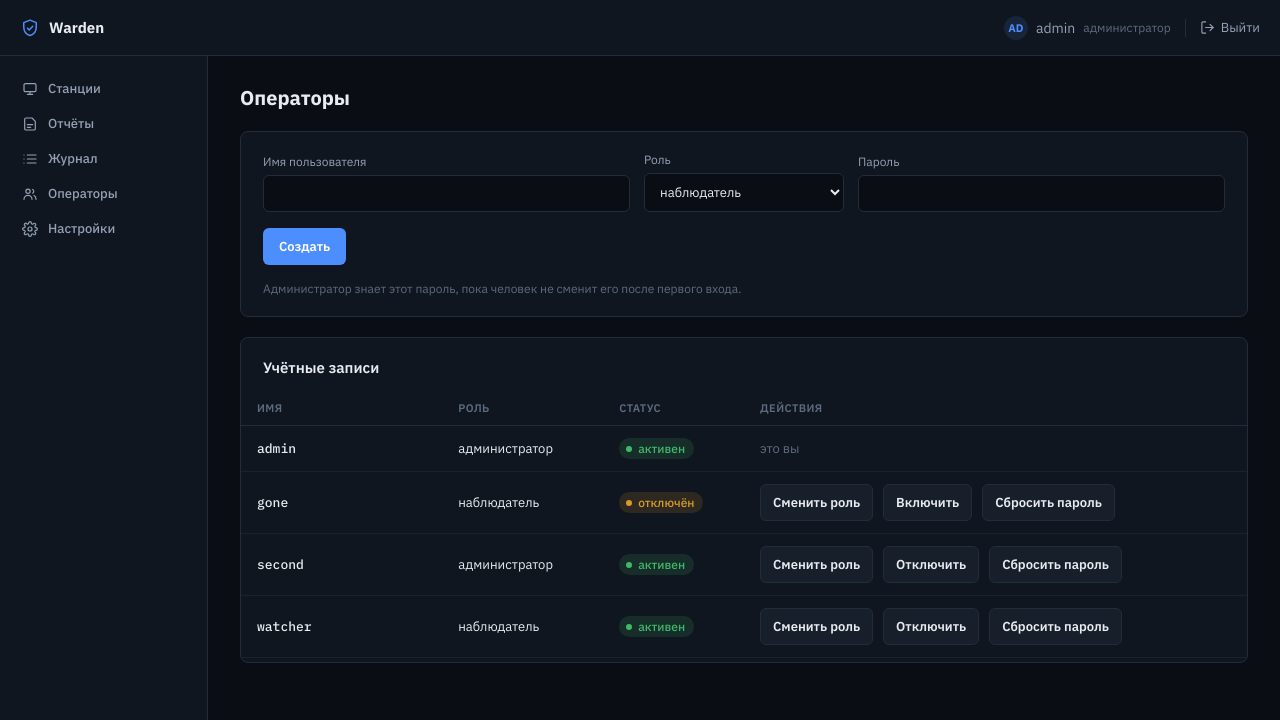
Test case: OperatorsPage create › says a duplicate name exists
Check: the row that starts with "watcher" is shown, box [241,596,1247,658]
Type "watcher" into the field labelled "Имя пользователя" at (446, 194), box [263,175,630,212]
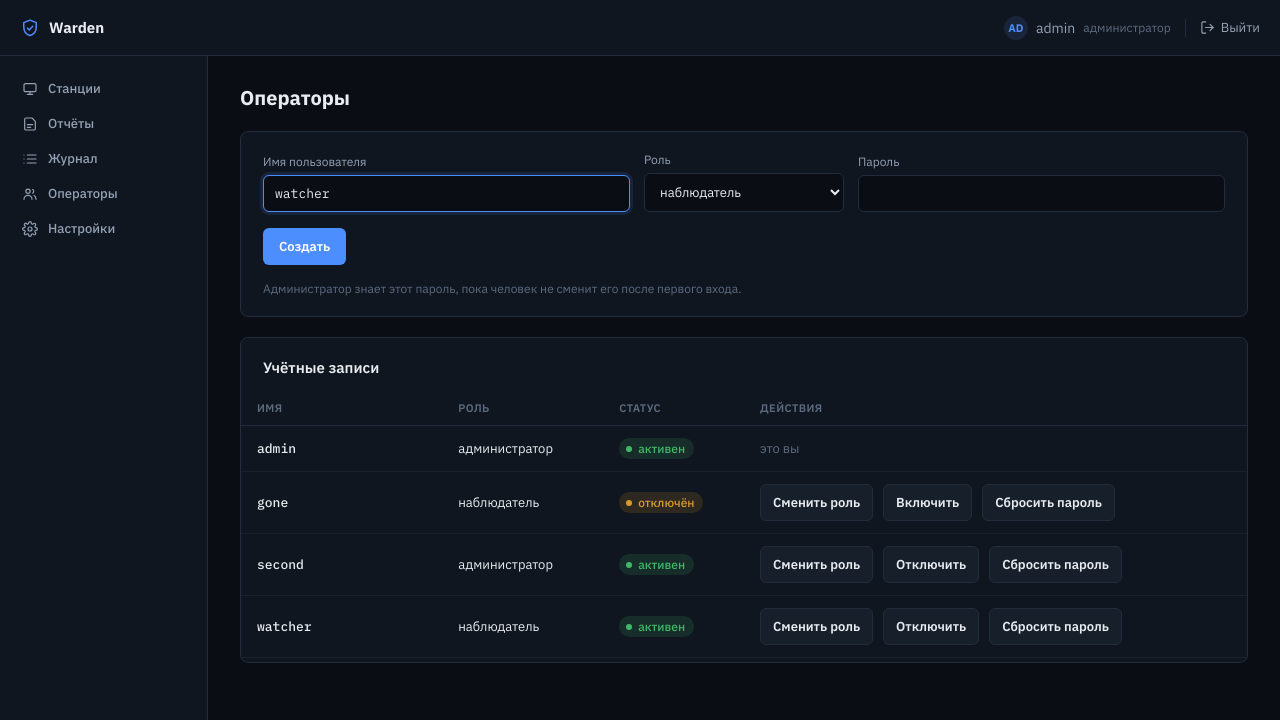
Select "наблюдатель" in the dropdown labelled "Роль" at (744, 192), box [644,173,844,212]
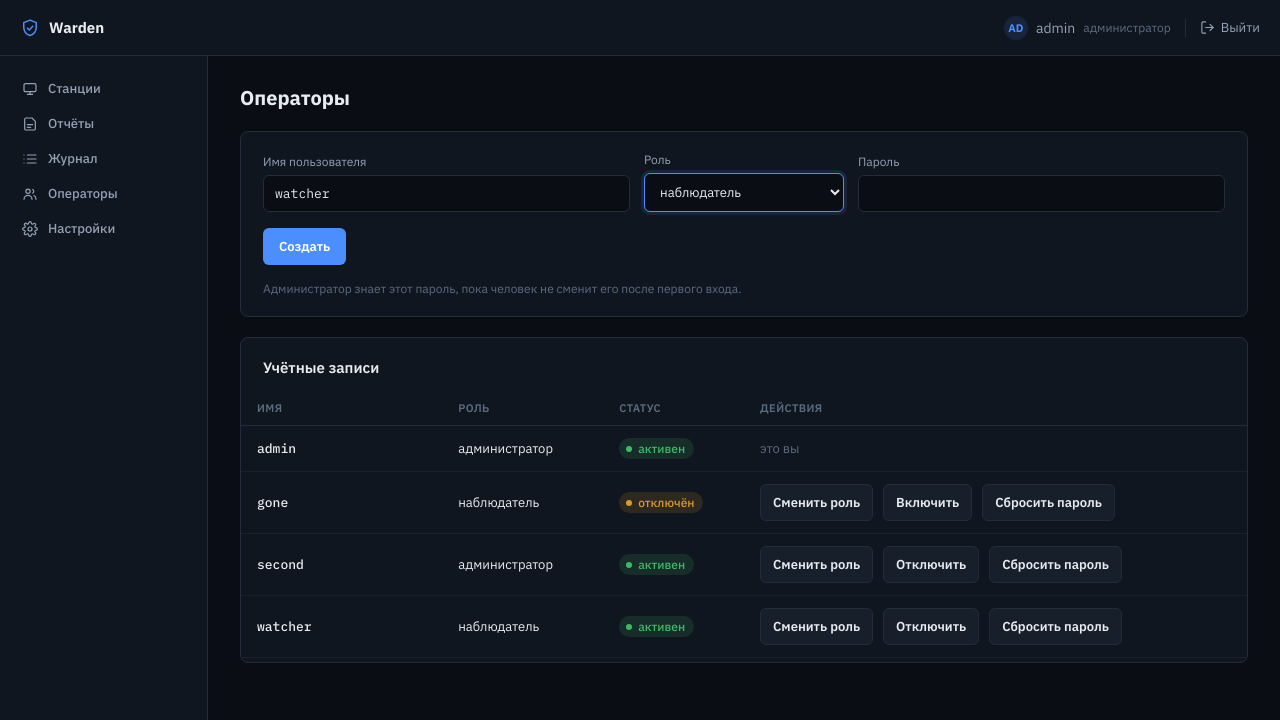
Type "a-long-enough-passphrase" into the password field labelled "Пароль" at (1042, 194), box [858,175,1225,212]
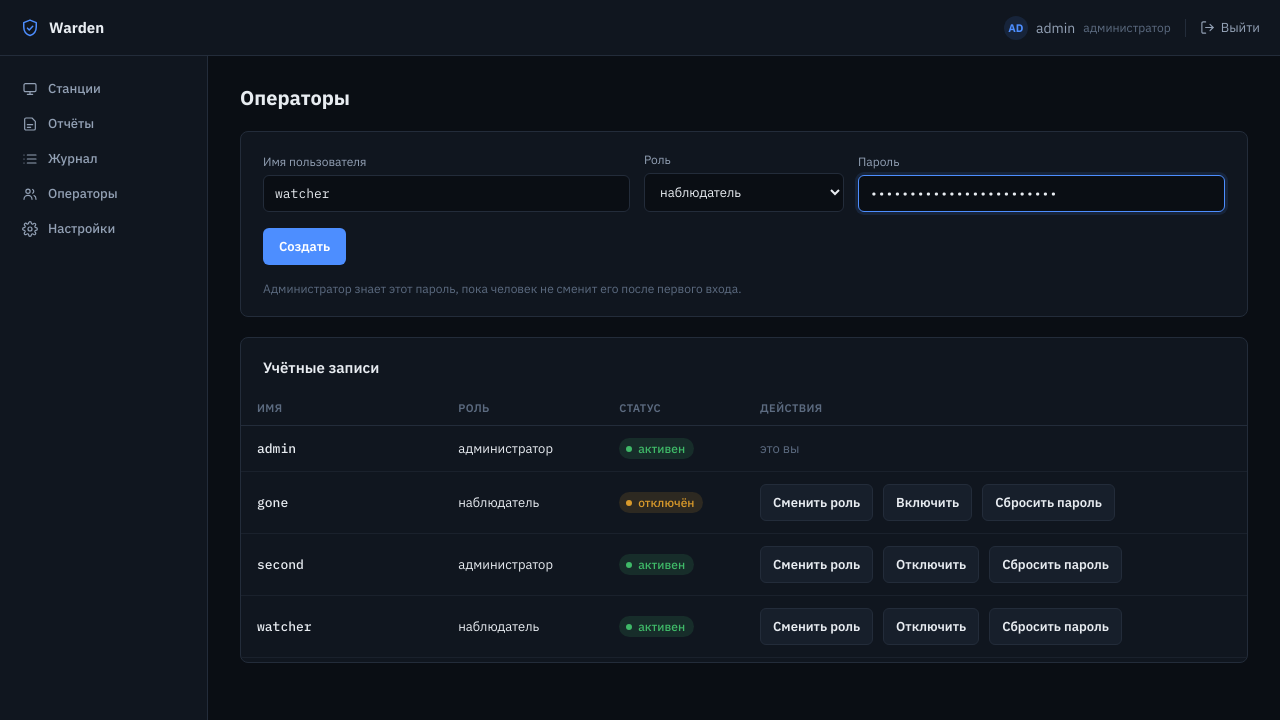
Click the button "Создать" at (305, 246), box [263,228,346,265]
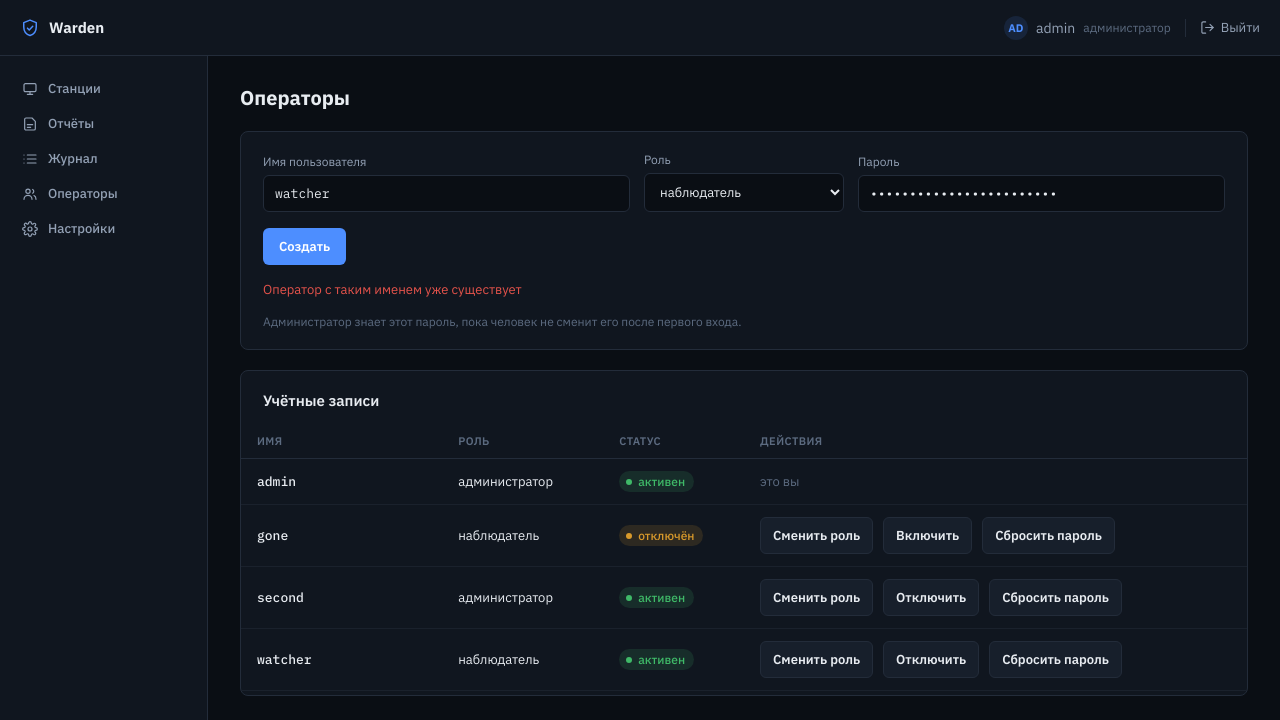
Check: the text "Оператор с таким именем уже существует" is shown, box [263,281,522,298]
